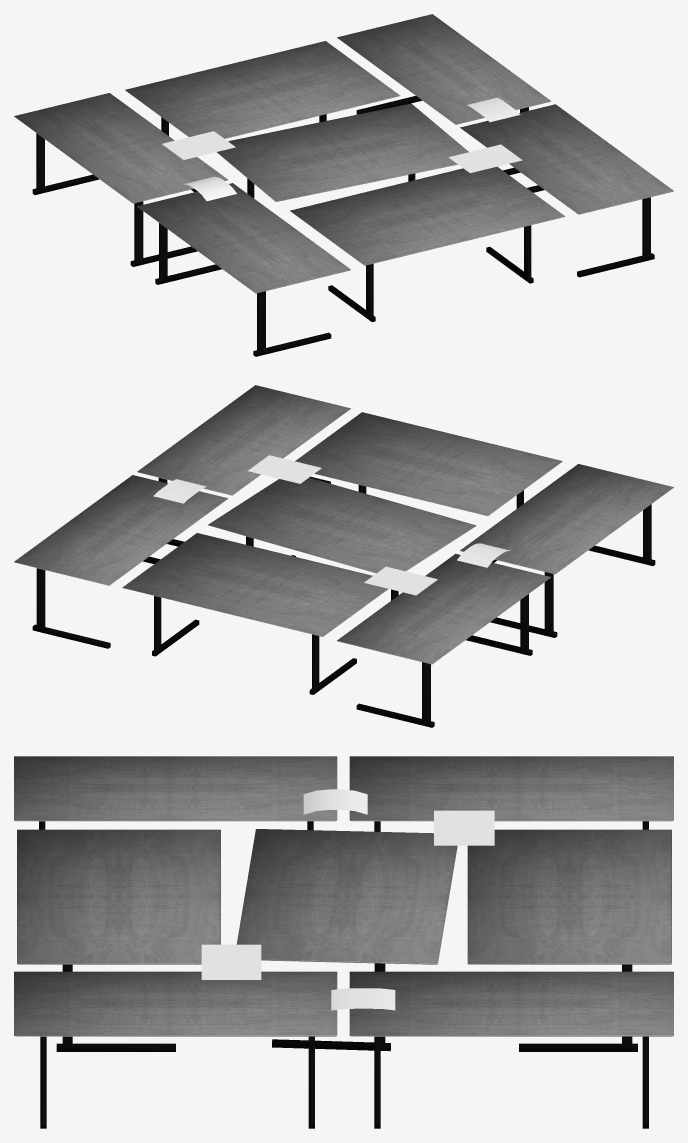
File: ground.fbx
3 views of the same model, one above another, from view 1: azimuth 30°, elevation 25°; view 2: azimuth 150°, elevation 25°; view 3: azimuth 270°, elevation 25° (orthographic). The views are drawn at different scales.
Parts seen in each view (by area): view 1: Tables; view 2: Tables; view 3: Tables.
Boxes of the visible parts, x1=… form: Tables: x1=14, y1=14, x2=673, y2=356; Tables: x1=14, y1=385, x2=673, y2=727; Tables: x1=14, y1=756, x2=673, y2=1128.
Bounding box in the file's own units: 484 × 84.64 × 484.
